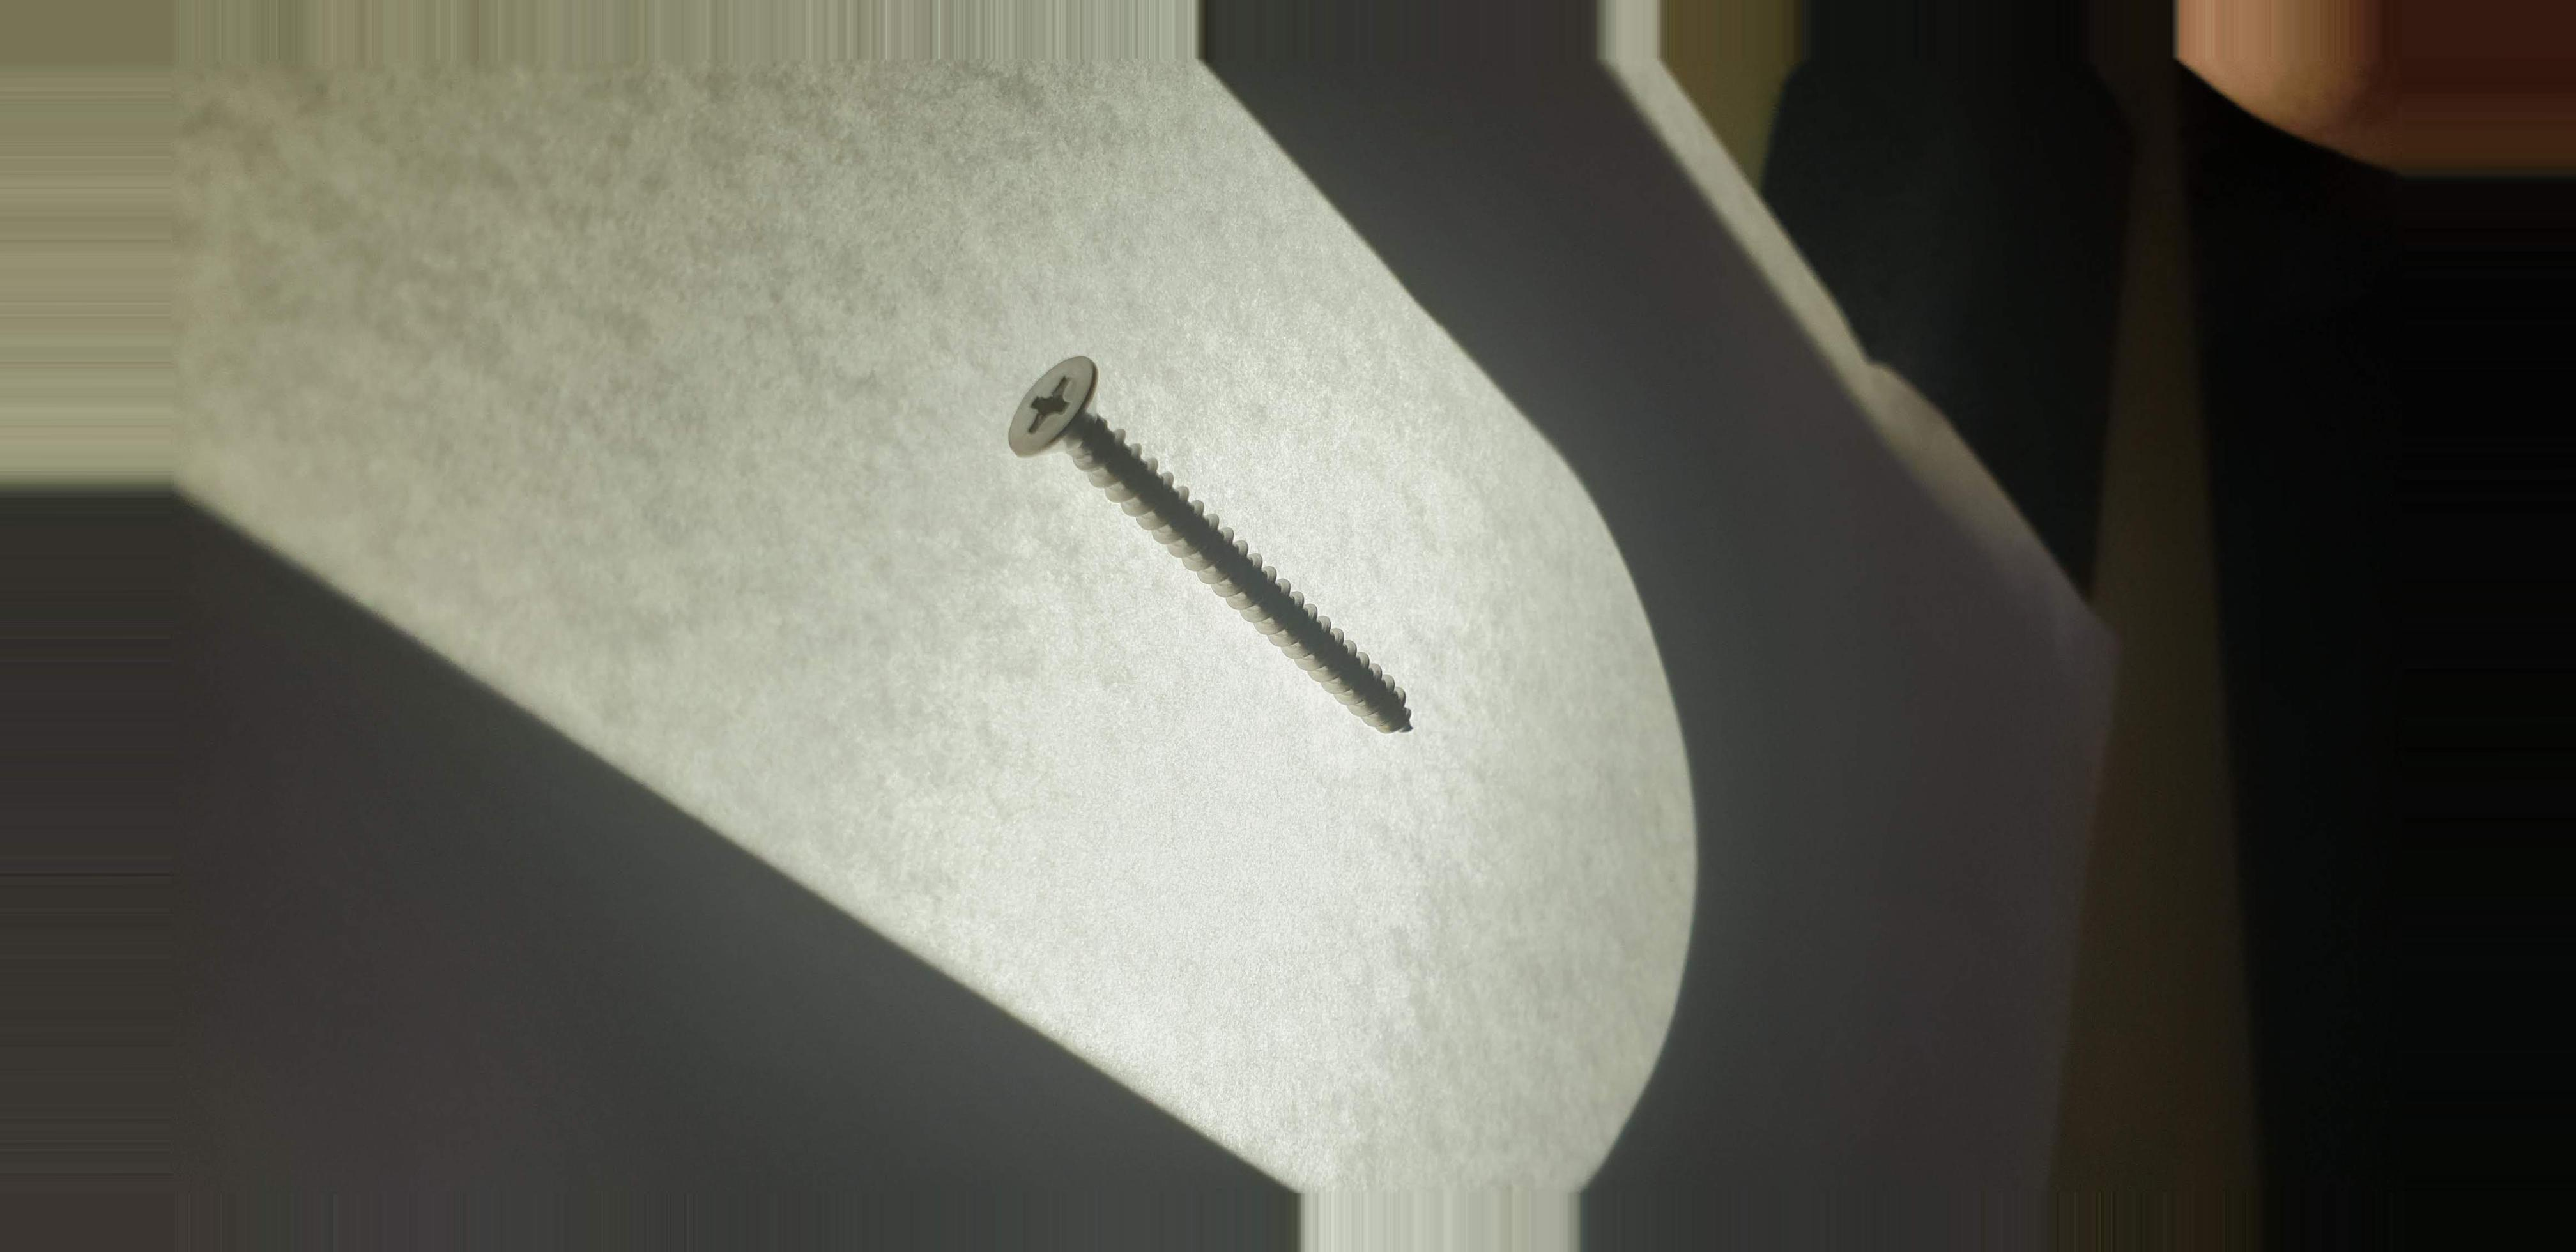S001: (953, 302, 1492, 802)
